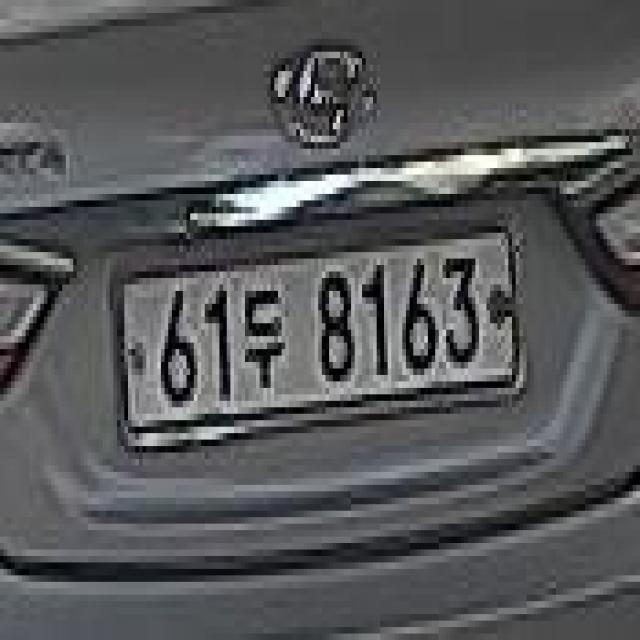1: (201, 280, 237, 408), (361, 263, 398, 383)
3: (444, 248, 480, 375)
6: (158, 282, 198, 411), (401, 255, 441, 380)
8: (312, 266, 358, 388)
du: (243, 278, 289, 404)
license_plate: (102, 197, 542, 482)
